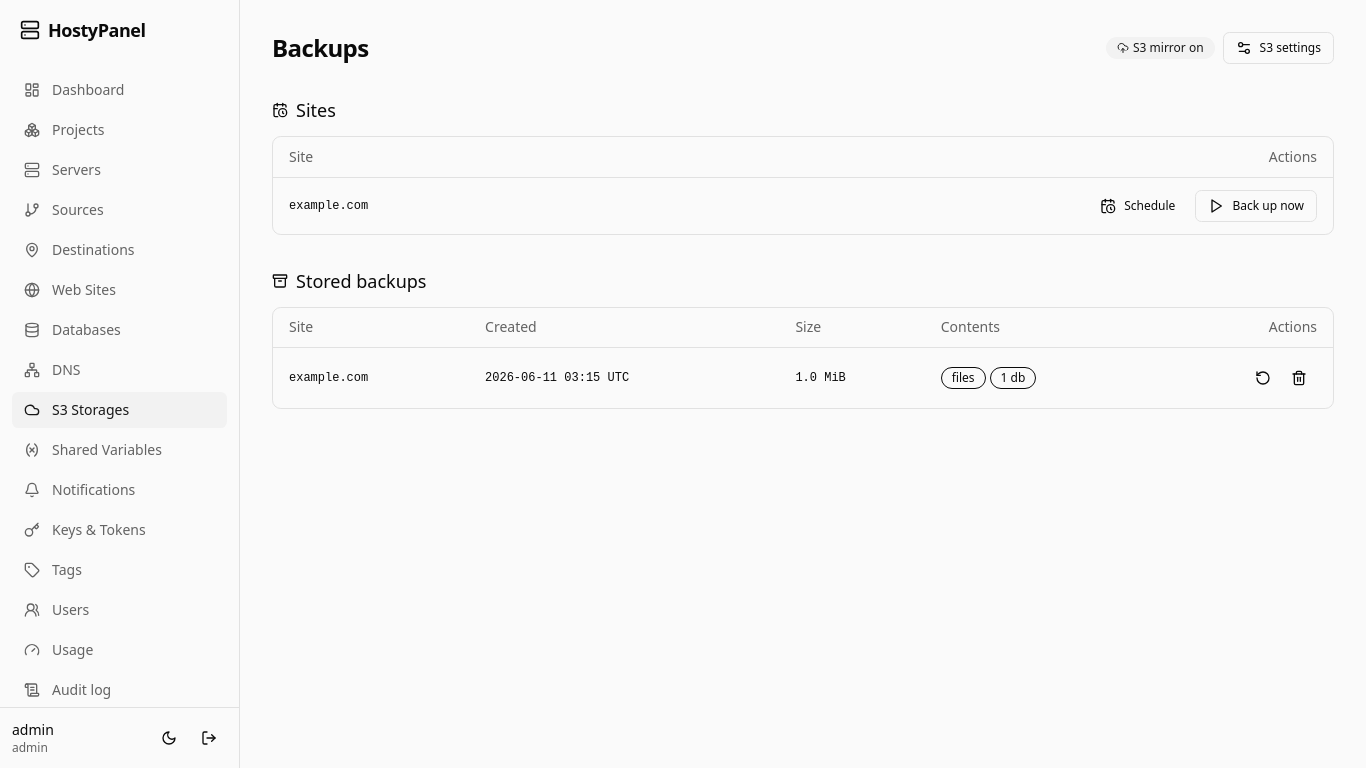
Scenario: BackupsPage › saves a schedule
Click the button "Schedule": x=1138, y=206 [1088,190,1187,222]
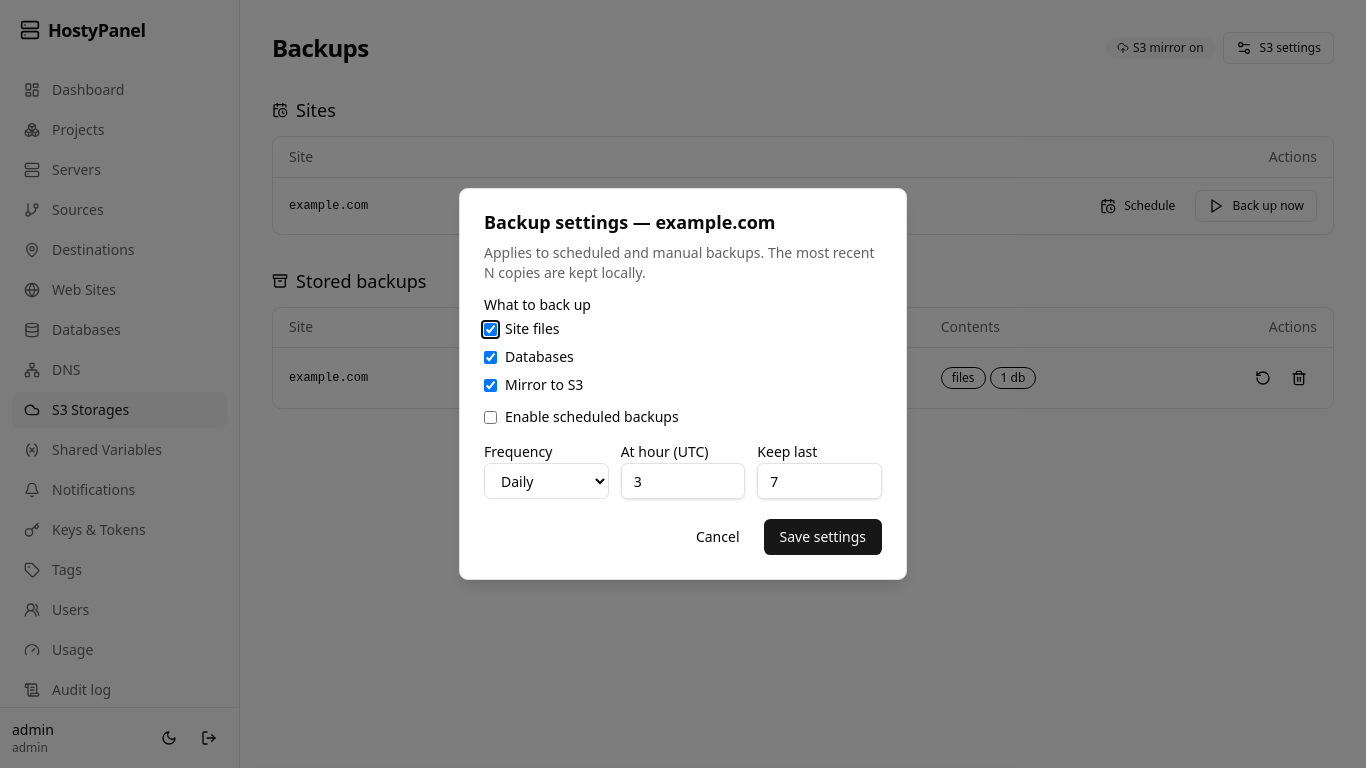
Click the checkbox labelled "Enable scheduled backups": x=490, y=417 [484,410,497,424]
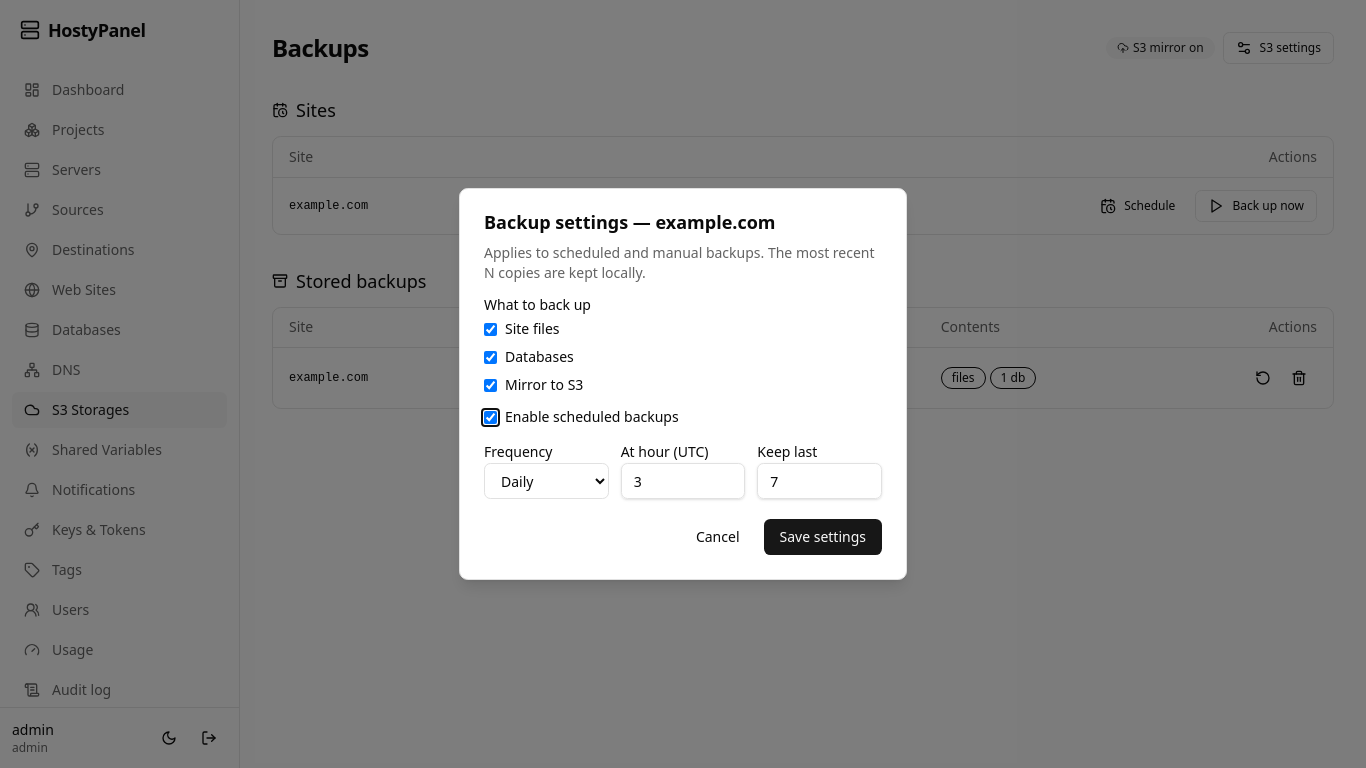
Select "Weekly (Mon)" in the dropdown labelled "Frequency": x=546, y=481 [484,463,609,499]
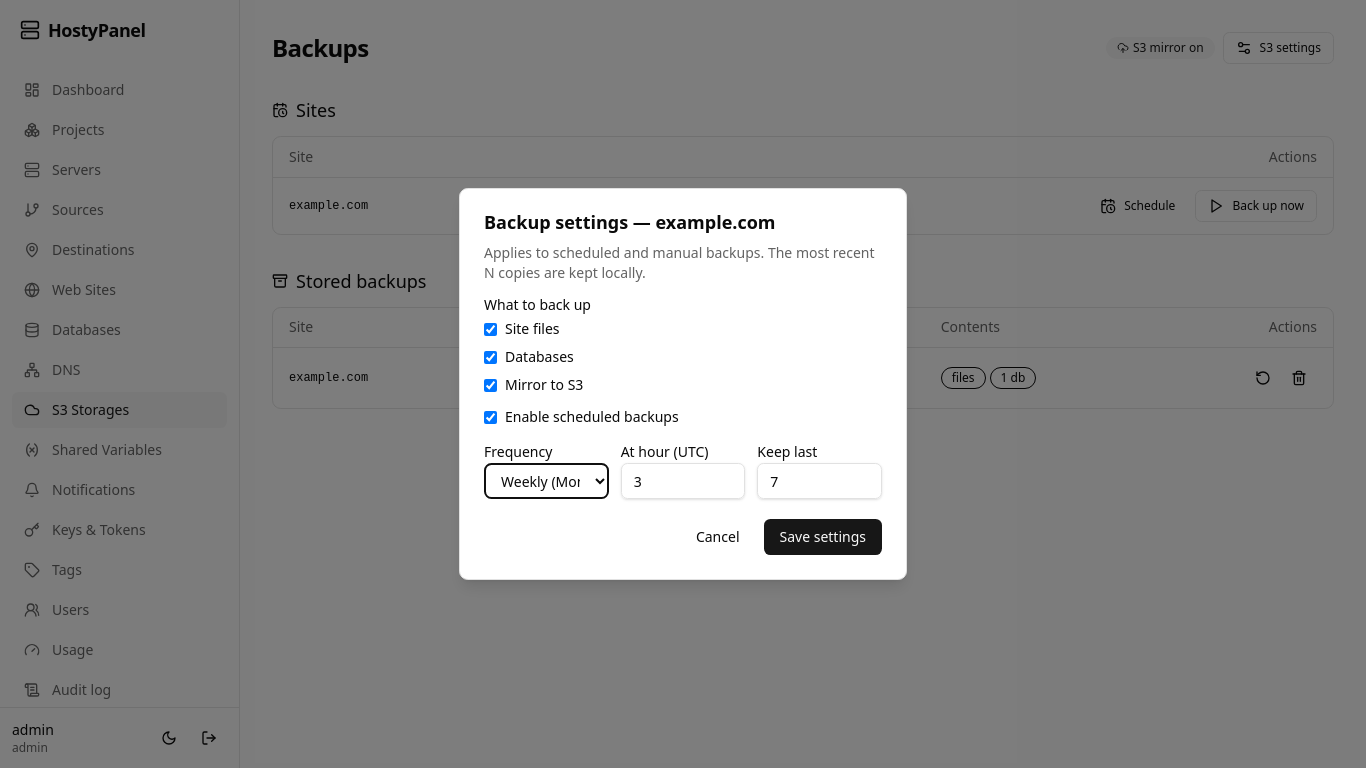
Click the button "Save settings": x=823, y=537 [764,519,882,555]
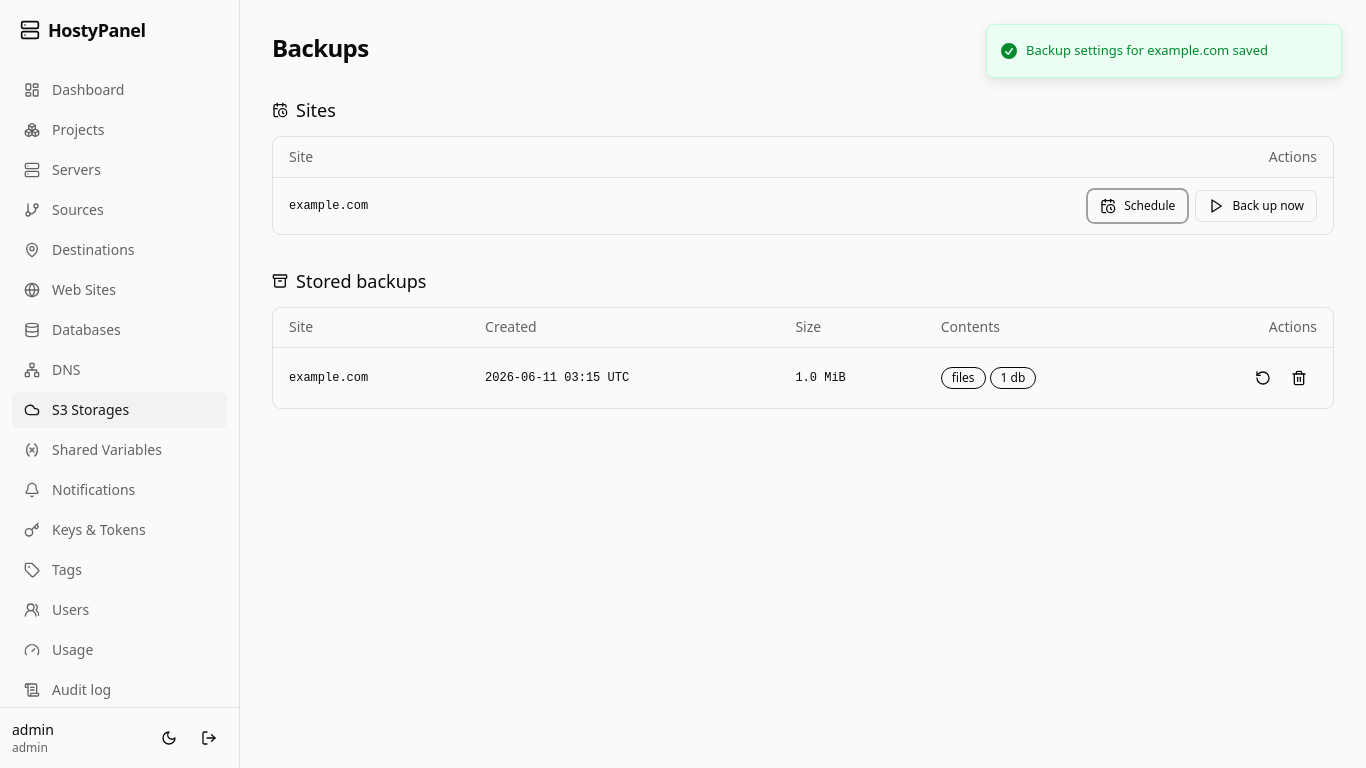
Expected: the text "Backup settings for example.com saved" is shown, [1026,41,1268,60]
